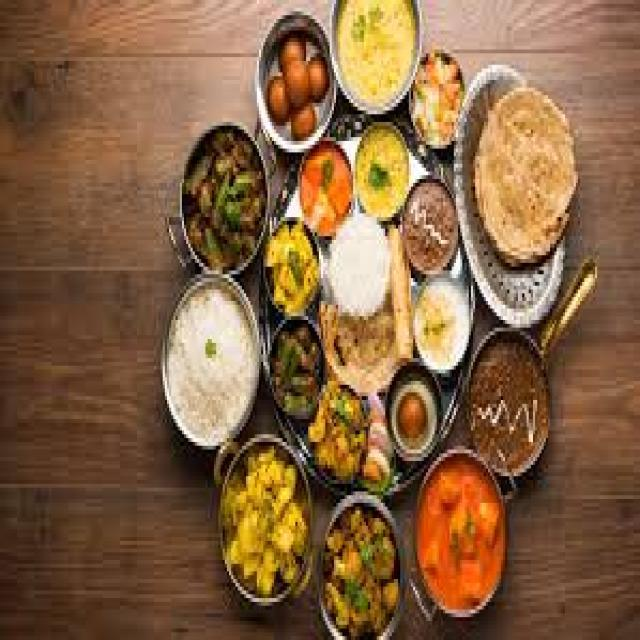dal: (335, 1, 419, 112)
papad: (378, 223, 428, 362)
raita: (164, 273, 262, 444), (408, 272, 477, 371)
rice: (165, 276, 265, 446), (324, 219, 391, 315)
roti: (472, 82, 572, 262), (316, 292, 405, 393)
sweet: (378, 362, 447, 458), (271, 37, 333, 128)
veg-fry: (409, 453, 513, 617)
